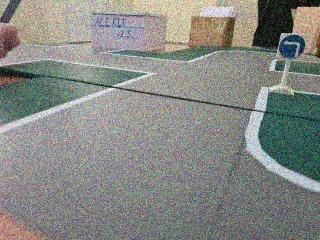left: (272, 28, 310, 65)
